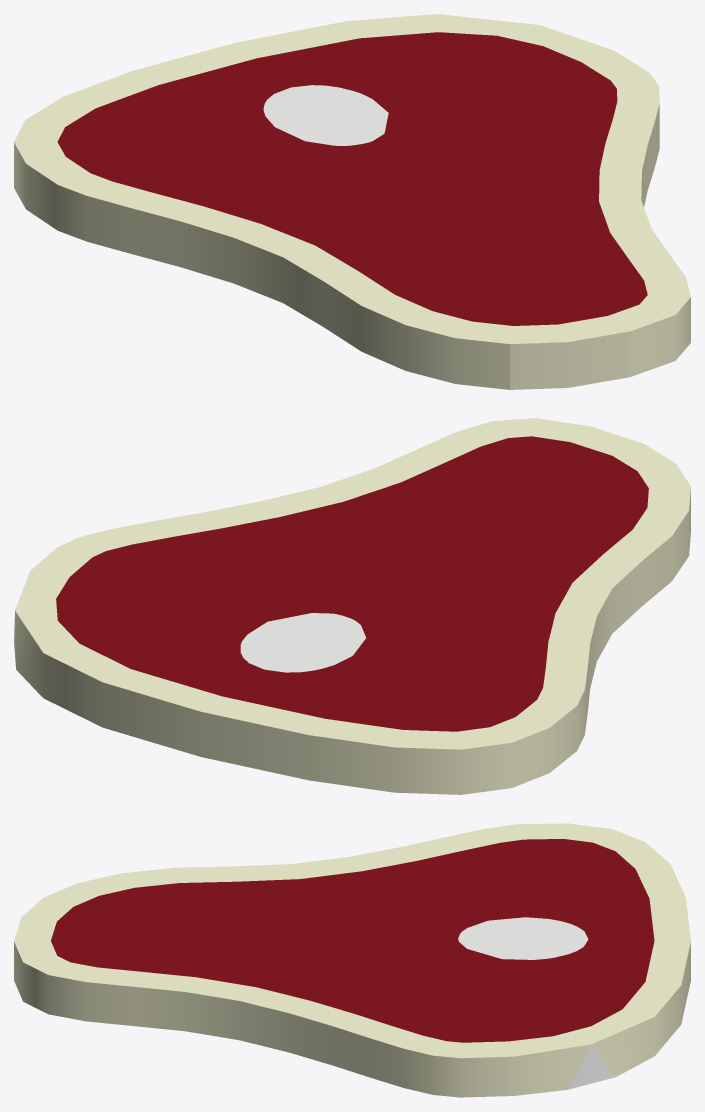
File: food.glb
The picture shows the model from 3 angles, top to bottom: view 1: azimuth 30°, elevation 25°; view 2: azimuth 150°, elevation 25°; view 3: azimuth 270°, elevation 25°; orthographic projection. The views are drawn at different scales.
Parts seen in each view (by area): view 1: bistecca.001; view 2: bistecca.001; view 3: bistecca.001.
Boxes of the visible parts, box(x1,y1,x2,y2) form: bistecca.001: box(14, 14, 690, 389); bistecca.001: box(14, 418, 690, 794); bistecca.001: box(14, 823, 690, 1097).
Size of the model in its own units: 29.21 by 2.28 by 35.59.
Materials: 1 (1 with a texture image).
